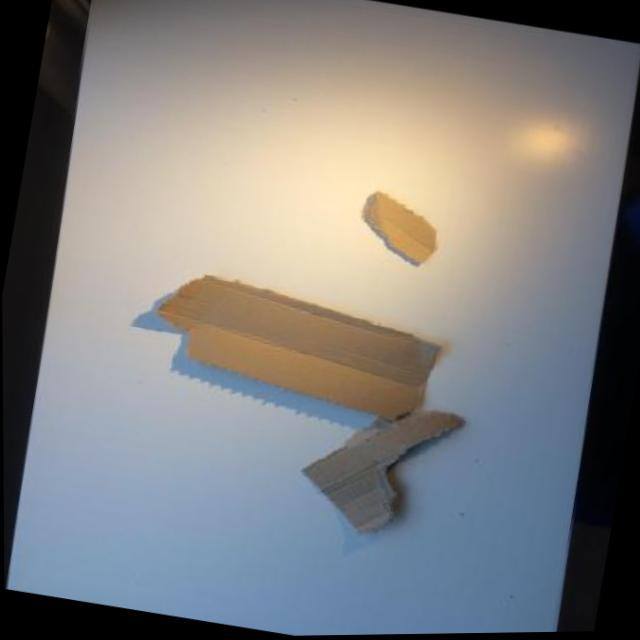cardboard: (142, 261, 449, 430), (290, 386, 471, 551), (353, 183, 447, 266)
